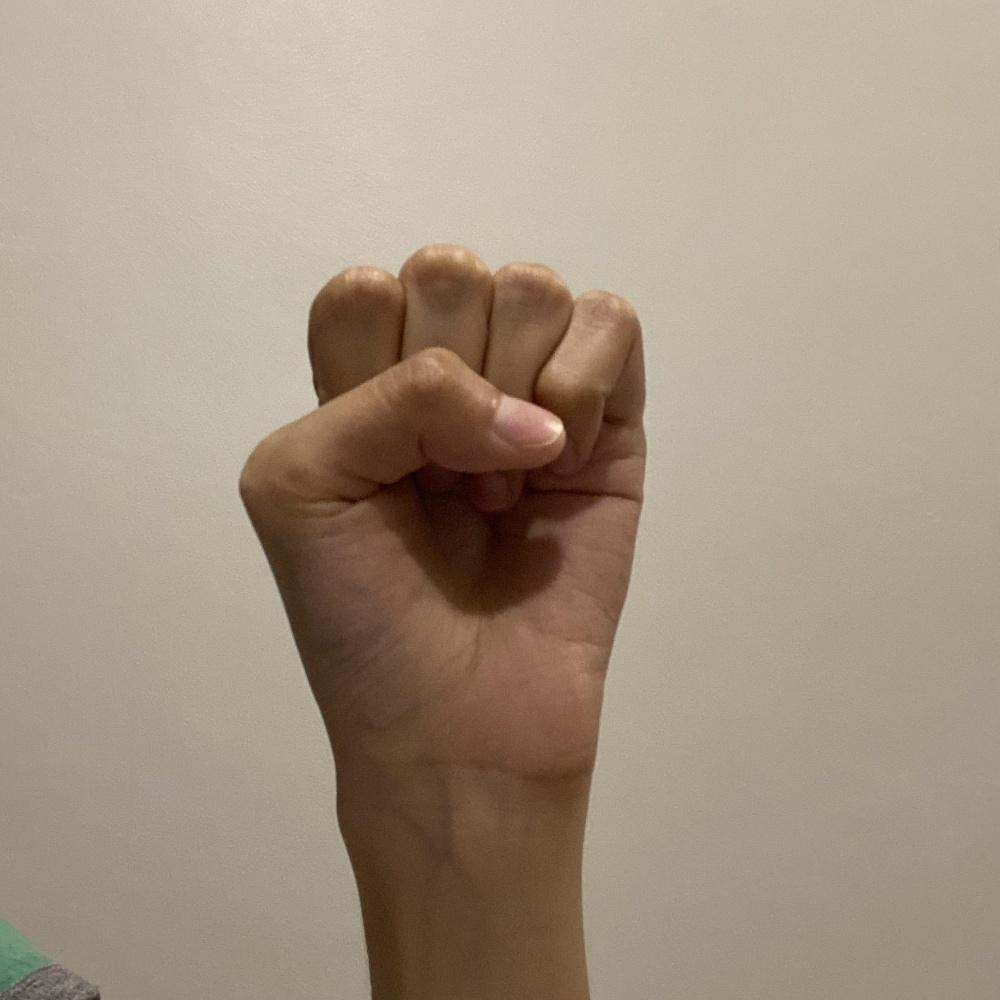s: (232, 238, 651, 789)
